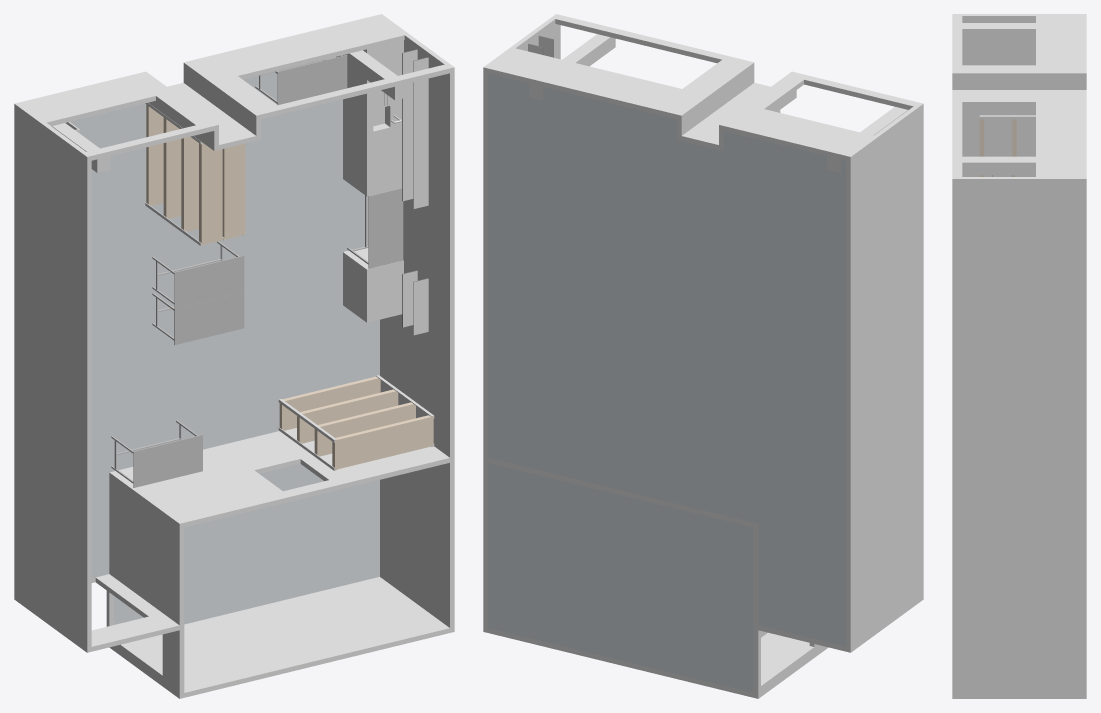
File: room.glb
The picture shows the model from 3 angles, left to right: view 1: azimuth 30°, elevation 25°; view 2: azimuth 150°, elevation 25°; view 3: azimuth 270°, elevation 25°; orthographic projection. The views are drawn at different scales.
Visible parts, largest first — view 1: mesh128_mesh_15, mesh299_mesh_12, mesh365_mesh_4, mesh299_mesh_52, mesh299_mesh_36, mesh46_mesh_4 (×5), mesh299_mesh_50, mesh299_mesh_55, mesh299_mesh_53, mesh299_mesh_31, mesh299_mesh_49, mesh299_mesh_11 (+18 smaller); view 2: mesh128_mesh_16, mesh365_mesh_5, mesh299_mesh_12, mesh299_mesh_51, mesh299_mesh_31, mesh299_mesh_11, mesh299_mesh_15, mesh299_mesh_14, mesh299_mesh_52, mesh299_mesh_61, mesh299_mesh_34; view 3: mesh299_mesh_32, mesh299_mesh_31, mesh299_mesh_28, mesh299_mesh_11, mesh299_mesh_13, mesh299_mesh_39, mesh299_mesh_7, mesh299_mesh_10, mesh299_mesh_42, mesh299_mesh_5, mesh299_mesh_30, mesh156_mesh_3.
Boxes of the visible parts, box(x1,y1,x2,y2) form: mesh128_mesh_15: box(70, 57, 379, 578); mesh299_mesh_12: box(14, 104, 87, 652); mesh365_mesh_4: box(114, 464, 379, 624); mesh299_mesh_52: box(125, 577, 449, 692); mesh299_mesh_36: box(380, 35, 449, 457); mesh46_mesh_4 (×5): box(133, 55, 403, 487); mesh299_mesh_50: box(87, 67, 454, 698); mesh299_mesh_55: box(109, 428, 449, 523); mesh299_mesh_53: box(380, 463, 449, 627); mesh299_mesh_31: box(184, 14, 453, 115); mesh299_mesh_49: box(109, 472, 179, 624); mesh299_mesh_11: box(15, 71, 218, 156); mesh128_mesh_16: box(488, 73, 846, 646); mesh365_mesh_5: box(488, 463, 753, 692); mesh299_mesh_12: box(850, 104, 923, 652); mesh299_mesh_51: box(483, 67, 850, 698); mesh299_mesh_31: box(484, 14, 753, 115); mesh299_mesh_11: box(719, 71, 922, 156); mesh299_mesh_15: box(681, 63, 754, 135); mesh299_mesh_14: box(682, 82, 770, 144); mesh299_mesh_52: box(761, 632, 809, 681); mesh299_mesh_61: box(758, 630, 828, 698); mesh299_mesh_34: box(555, 19, 721, 63); mesh299_mesh_32: box(952, 179, 1086, 698); mesh299_mesh_31: box(952, 90, 1086, 178); mesh299_mesh_28: box(962, 16, 1035, 176); mesh299_mesh_11: box(952, 14, 1086, 73); mesh299_mesh_13: box(952, 73, 1086, 89); mesh299_mesh_39: box(962, 162, 1035, 175); mesh299_mesh_7: box(962, 29, 1035, 41); mesh299_mesh_10: box(962, 106, 1035, 115); mesh299_mesh_42: box(962, 156, 1035, 162); mesh299_mesh_5: box(962, 23, 1035, 28); mesh299_mesh_30: box(962, 102, 1035, 106); mesh156_mesh_3: box(979, 119, 984, 176).
Size of the model in its own units: 7.95 by 11.67 by 2.73.
